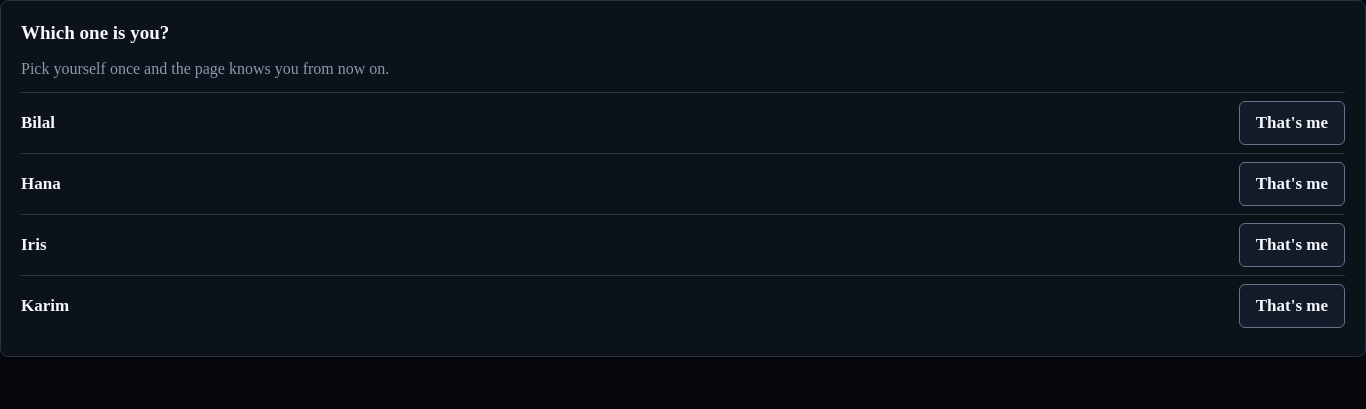
signed in with no player row: picking yourself, once › does not navigate when the claim is refused
Step 1. Click the button "That's me" in the row of "Bilal" → (1292, 123), box x1=1239 y1=101 x2=1345 y2=145
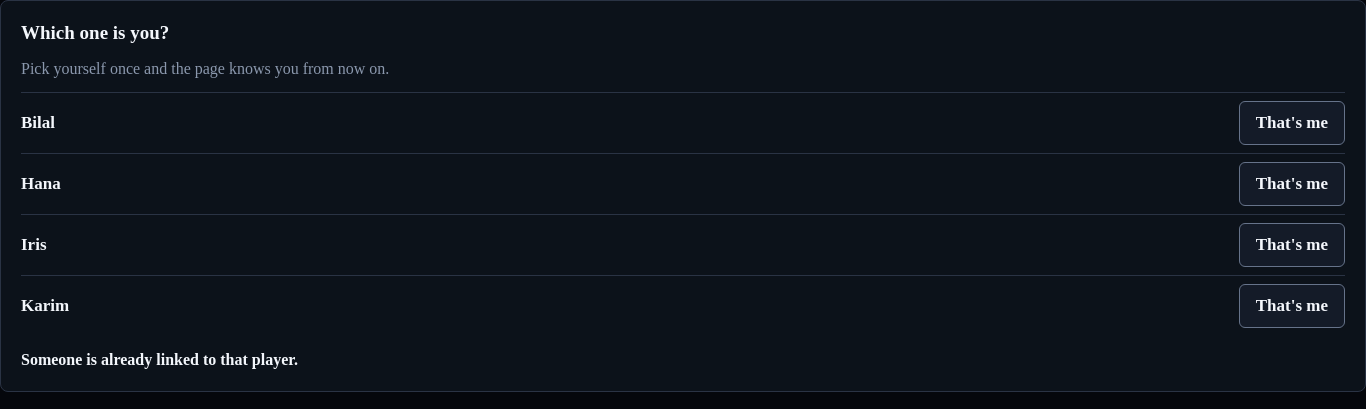
Check: the message "Someone is already linked to that player." is shown, box x1=21 y1=351 x2=298 y2=368
